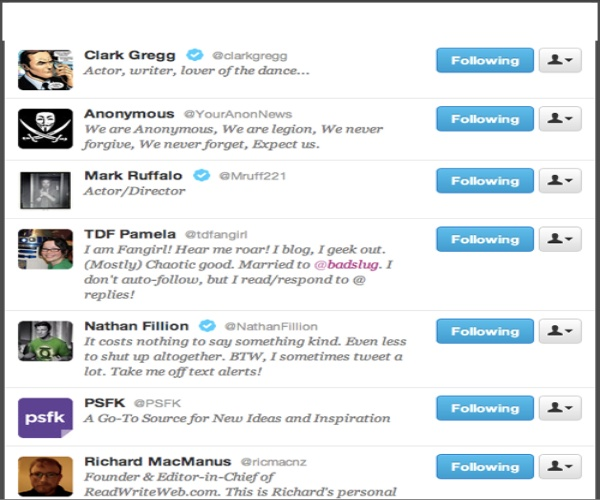following: (431, 101, 538, 139), (432, 163, 539, 199), (433, 43, 538, 79), (431, 452, 539, 485), (436, 390, 537, 425), (432, 223, 539, 255), (437, 316, 534, 348)
